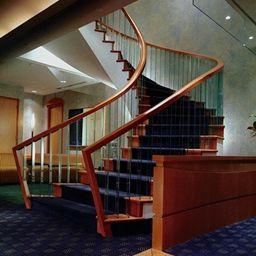Escaleras: (19, 24, 238, 227)
